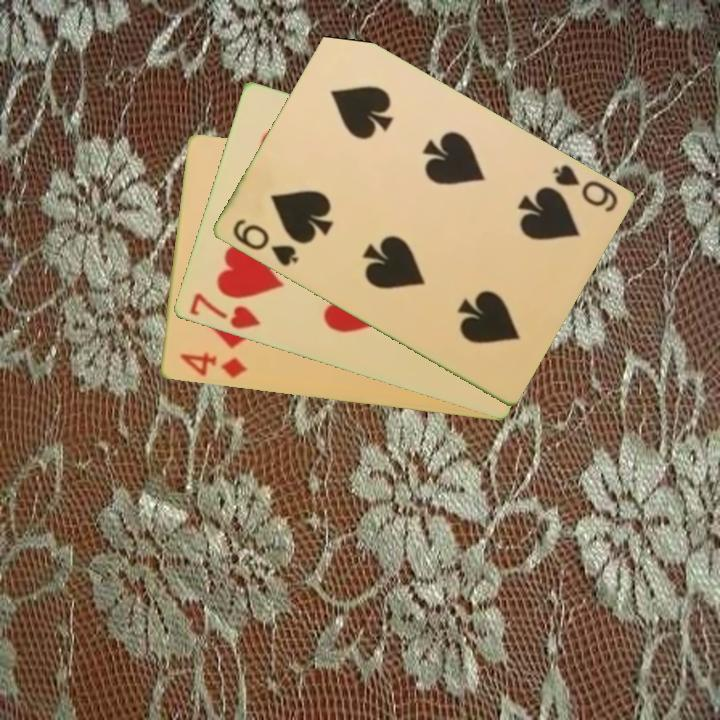4d: (176, 349, 250, 381)
6s: (228, 215, 301, 270), (548, 161, 620, 216)
7h: (185, 289, 263, 333)
